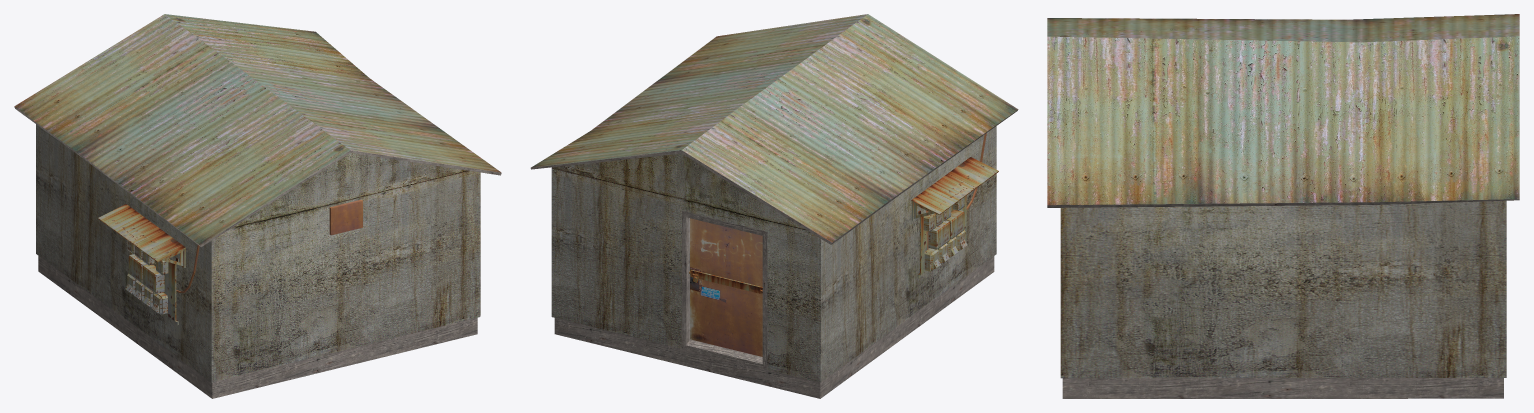
File: building_9.DAE
The picture shows the model from 3 angles, left to right: view 1: azimuth 30°, elevation 25°; view 2: azimuth 150°, elevation 25°; view 3: azimuth 270°, elevation 25°; orthographic projection. The views are drawn at different scales.
Parts seen in each view (by area): view 1: Mesh_Object; view 2: Mesh_Object; view 3: Mesh_Object.
Boxes of the visible parts, <box> form: Mesh_Object: <box>14,14,501,398</box>; Mesh_Object: <box>530,14,1018,398</box>; Mesh_Object: <box>1047,14,1519,398</box>.
Bounding box in the file's own units: 5.46 × 3.68 × 5.63.
